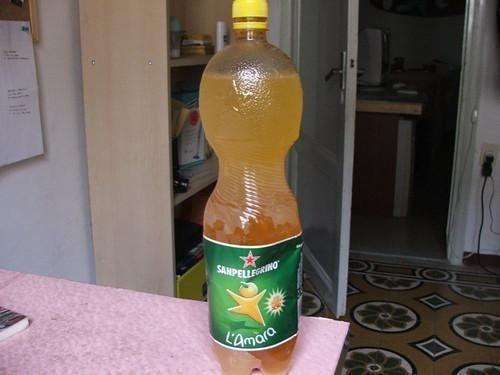bottle-plastic: (197, 1, 305, 374)
